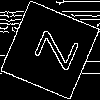Z: (25, 25, 79, 72)
